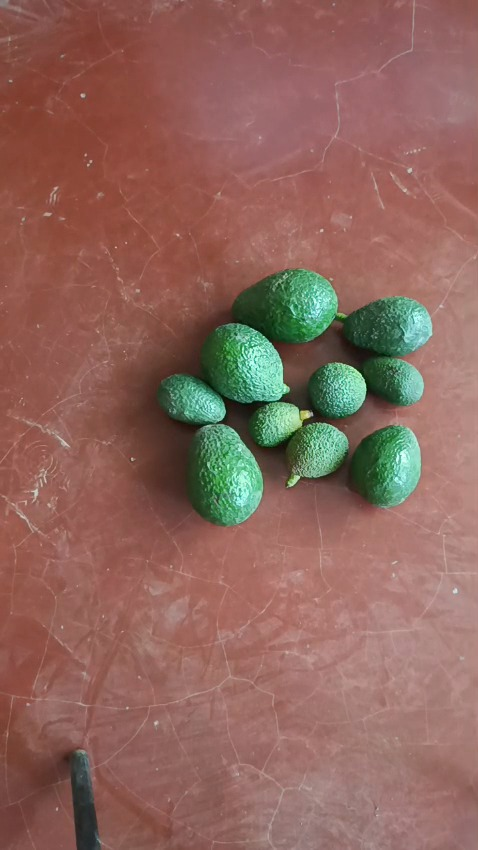Primera: (232, 269, 340, 344), (185, 425, 264, 523), (200, 322, 286, 402)
Segunda: (348, 424, 422, 506), (340, 297, 432, 358)
Tercera: (283, 422, 350, 478), (157, 374, 227, 426), (307, 361, 369, 419), (359, 356, 423, 407), (248, 400, 306, 448)
